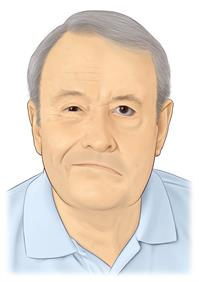stroke: (37, 51, 163, 216)
